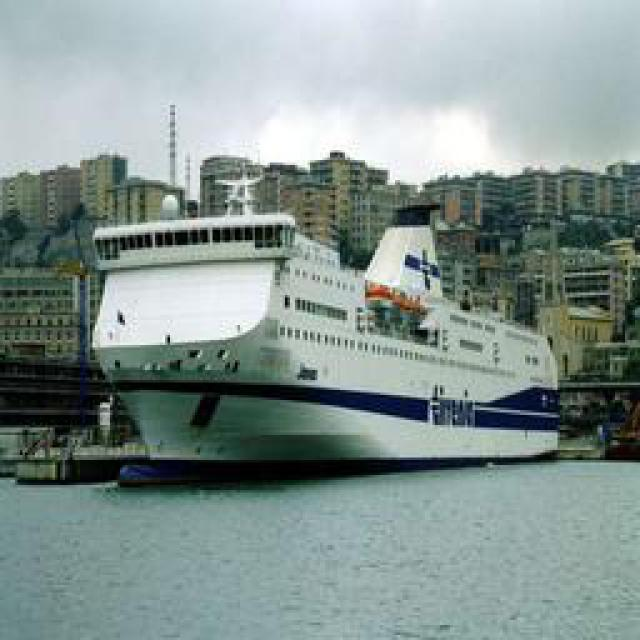Ship: (87, 191, 565, 471)
